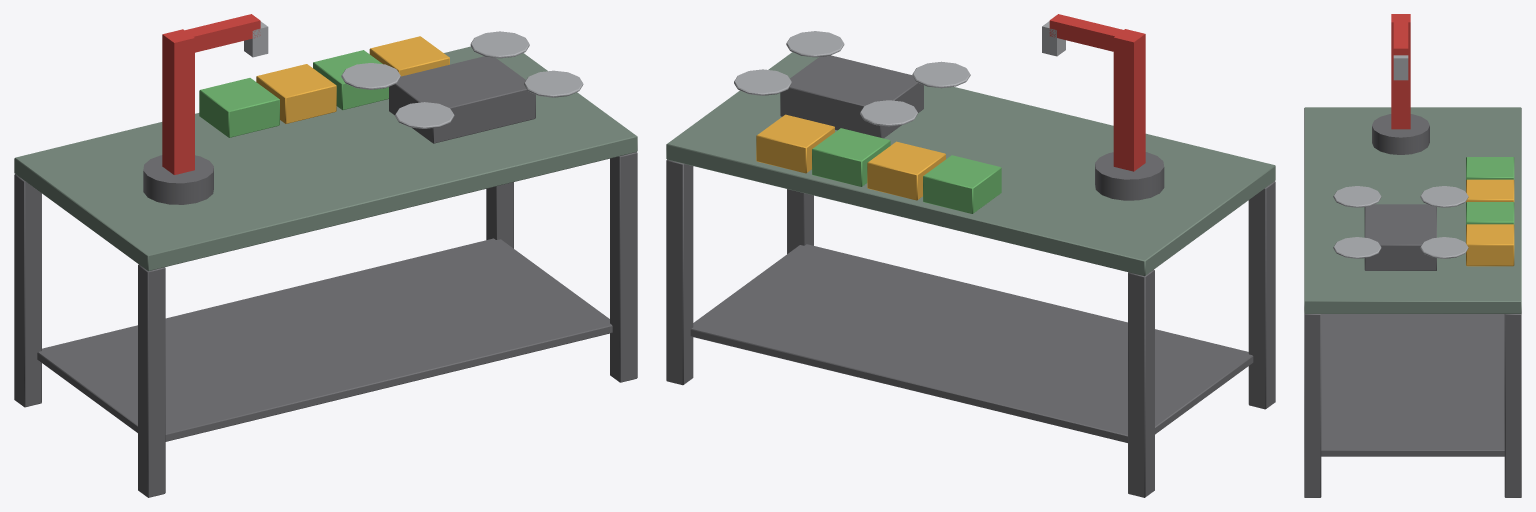
Rendered from feM_Robotics.fbx.
3 renders of one model, left to right at view 1: azimuth 30°, elevation 25°; view 2: azimuth 150°, elevation 25°; view 3: azimuth 270°, elevation 25°, orthographic. The views are drawn at different scales.
Visible parts, largest first — view 1: feM_Robotics_Base, FeSpin_x0.3_RobotArm; view 2: feM_Robotics_Base, FeSpin_x0.3_RobotArm; view 3: feM_Robotics_Base, FeSpin_x0.3_RobotArm.
Boxes of the visible parts, <box> form: feM_Robotics_Base: <box>14,31,637,497</box>; FeSpin_x0.3_RobotArm: <box>143,14,268,204</box>; feM_Robotics_Base: <box>666,31,1275,497</box>; FeSpin_x0.3_RobotArm: <box>1042,14,1164,200</box>; feM_Robotics_Base: <box>1304,107,1521,497</box>; FeSpin_x0.3_RobotArm: <box>1372,14,1429,154</box>.
Bounding box in the file's own units: 1.9 × 1.47 × 0.9.
